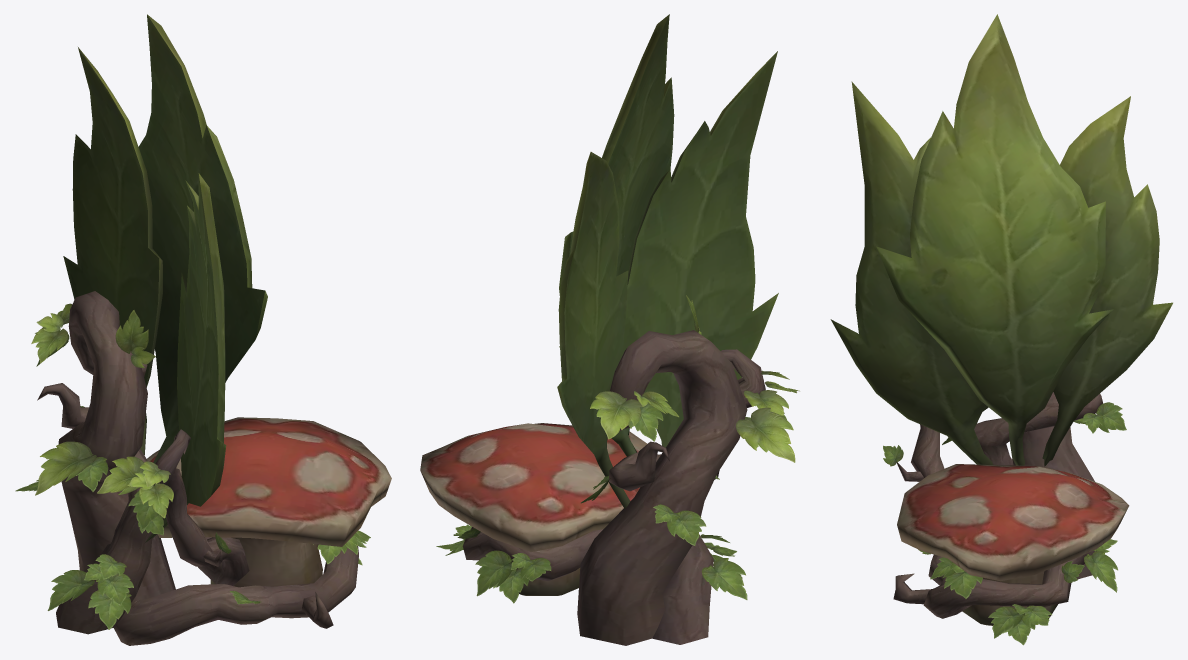
The picture shows the model from 3 angles, left to right: view 1: azimuth 30°, elevation 25°; view 2: azimuth 150°, elevation 25°; view 3: azimuth 270°, elevation 25°; orthographic projection. The views are drawn at different scales.
Bounding box in the file's own units: 1.26 × 2.13 × 1.17.
Materials: 2 (2 with a texture image).
